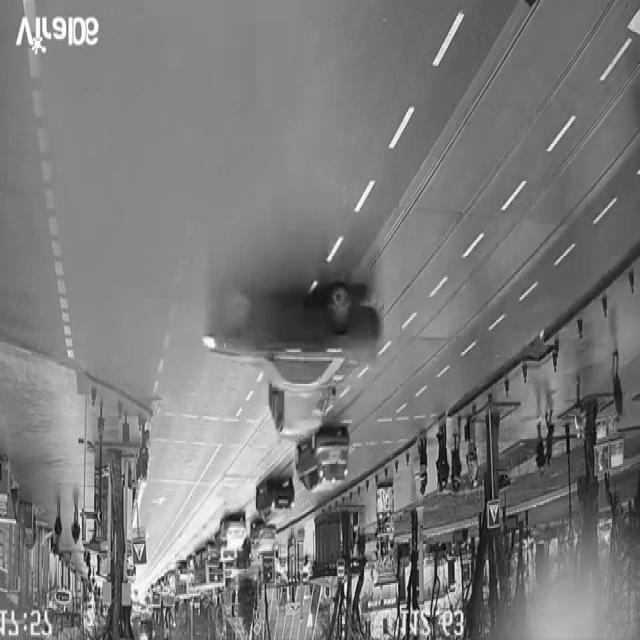moderate: (200, 260, 384, 456)
